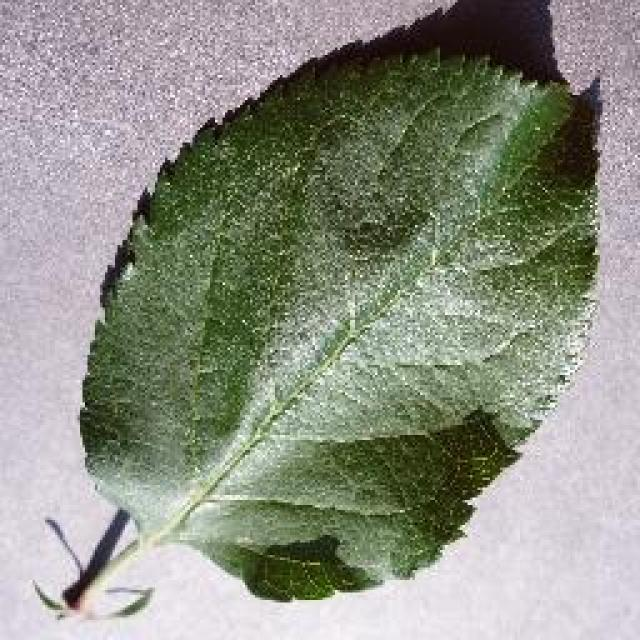apple healthy: (67, 35, 605, 607)
